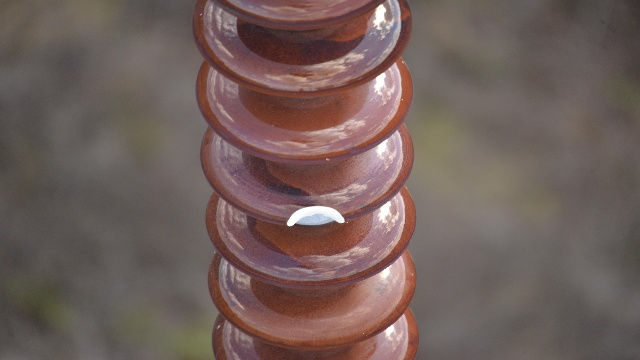broken_local: (284, 205, 345, 227)
insulator_unspecified: (190, 0, 426, 358)
